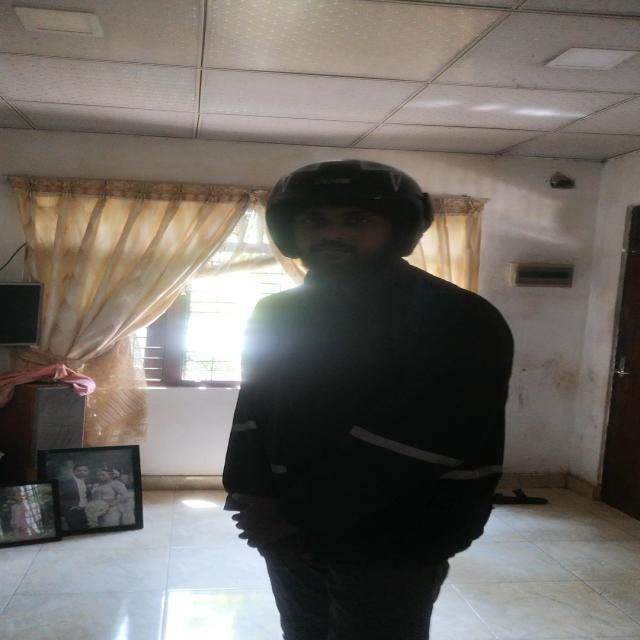Helmet_Wearer: (255, 152, 452, 292)
Jacket_Wearer: (224, 264, 522, 578)
Person: (217, 147, 517, 640)
